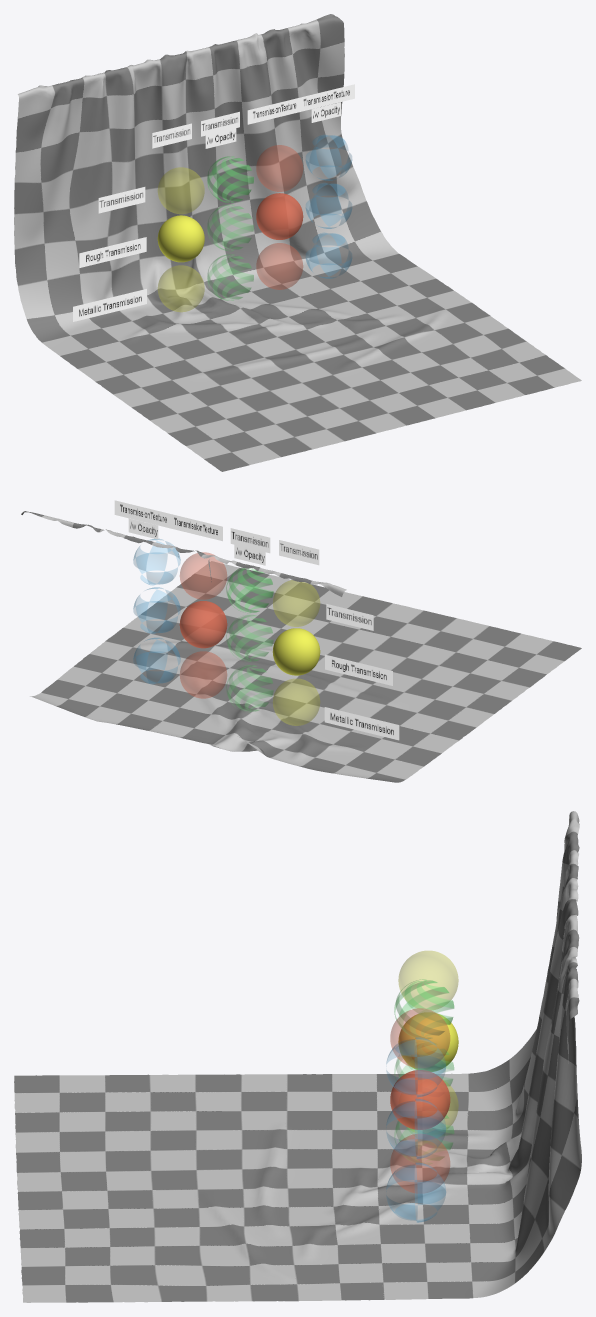
The model's file is transmission_test.gltf.
The picture shows the model from 3 angles, top to bottom: view 1: azimuth 30°, elevation 25°; view 2: azimuth 150°, elevation 25°; view 3: azimuth 270°, elevation 25°; orthographic projection. The views are drawn at different scales.
Parts seen in each view (by area): view 1: Cloth Backdrop 01, BlueTransWithMask (×3), X2_Label_Transmission (×3), YellowTransRough, RedTransTextureRough, RedTransTextureMetal, RedTransTexture, YellowTransMetal, YellowTrans, Y3_Label_TransmissionTexture (×2), GreenMask, GreenMaskMetal (+3 smaller); view 2: Cloth Backdrop 01, BlueTransWithMask (×3), X2_Label_Transmission (×3), YellowTransRough, RedTransTextureRough, RedTransTextureMetal, YellowTransMetal, YellowTrans, RedTransTexture, Y3_Label_TransmissionTexture (×2), GreenMask, GreenMaskRough (+4 smaller); view 3: Cloth Backdrop 01, BlueTransWithMask (×3), RedTransTextureRough, RedTransTexture, RedTransTextureMetal, YellowTransRough, YellowTrans, GreenMask.
Part boxes in pixels (box(x1,y1,x2,y2)): Cloth Backdrop 01: box(14, 14, 581, 471); BlueTransWithMask (×3): box(306, 135, 351, 278); X2_Label_Transmission (×3): box(98, 111, 239, 213); YellowTransRough: box(157, 215, 204, 262); RedTransTextureRough: box(256, 193, 303, 239); RedTransTextureMetal: box(256, 243, 302, 289); RedTransTexture: box(256, 145, 302, 191); YellowTransMetal: box(158, 265, 204, 311); YellowTrans: box(158, 167, 204, 213); Y3_Label_TransmissionTexture (×2): box(247, 84, 354, 124); GreenMask: box(207, 156, 253, 202); GreenMaskMetal: box(207, 254, 253, 300); Cloth Backdrop 01: box(21, 511, 581, 782); BlueTransWithMask (×3): box(133, 539, 180, 684); X2_Label_Transmission (×3): box(230, 528, 373, 630); YellowTransRough: box(272, 628, 320, 675); RedTransTextureRough: box(179, 601, 227, 648); RedTransTextureMetal: box(180, 651, 226, 698); YellowTransMetal: box(273, 679, 319, 725); YellowTrans: box(273, 580, 319, 626); RedTransTexture: box(180, 552, 226, 599); Y3_Label_TransmissionTexture (×2): box(114, 500, 222, 541); GreenMask: box(226, 567, 273, 613); GreenMaskRough: box(226, 615, 273, 661); Cloth Backdrop 01: box(14, 811, 581, 1302); BlueTransWithMask (×3): box(386, 1037, 445, 1222); RedTransTextureRough: box(390, 1070, 450, 1129); RedTransTexture: box(390, 1008, 449, 1067); RedTransTextureMetal: box(390, 1134, 449, 1193); YellowTransRough: box(398, 1013, 458, 1071); YellowTrans: box(398, 951, 458, 1009); GreenMask: box(394, 979, 454, 1038).
Bounding box in the file's own units: 1.8 × 1.02 × 1.89.
Materials: 14 (8 with a texture image).
